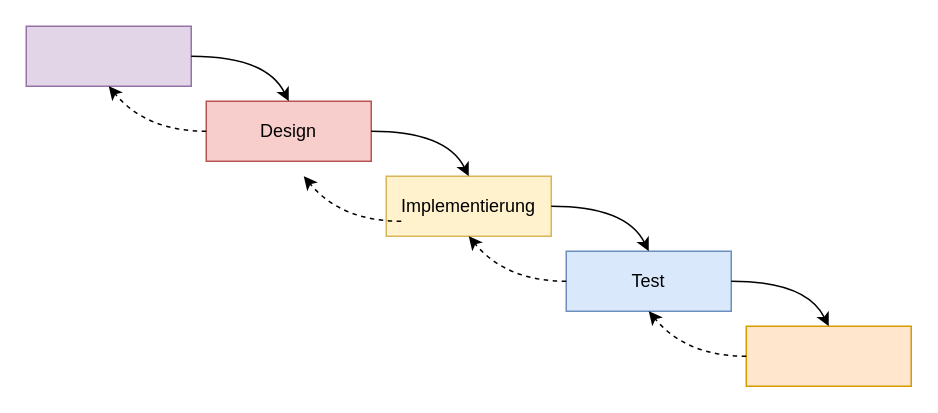
This 938x413 diagram has some shape labels left out. Each missing label, with the box of its shape:
Analyse: (25, 25, 191, 86)
Inbetriebnahme: (745, 325, 911, 386)
